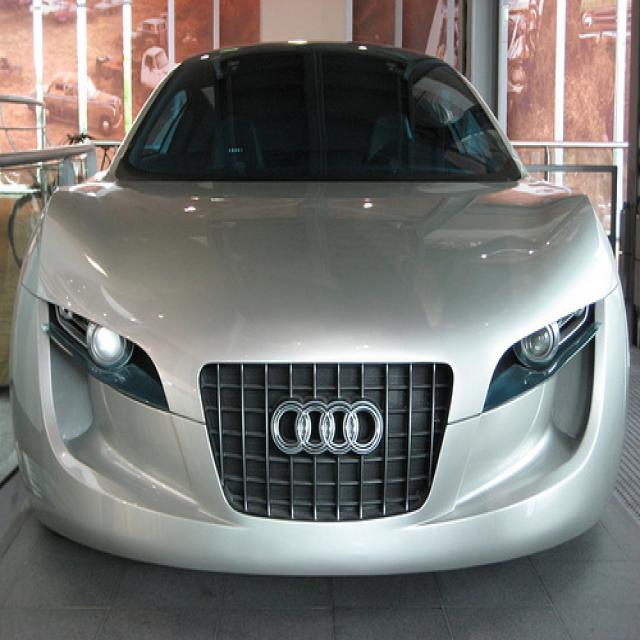Car: (15, 38, 633, 574)
